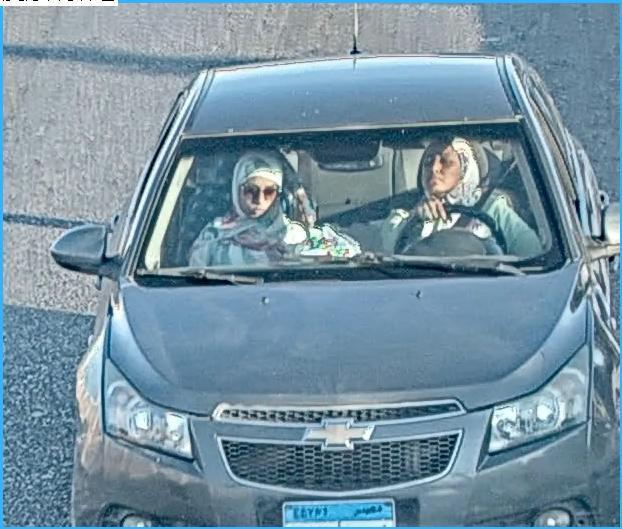windshield: (122, 114, 570, 281)
